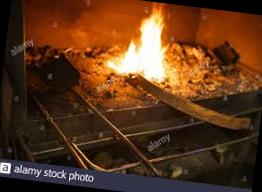Fire: (101, 0, 183, 91)
